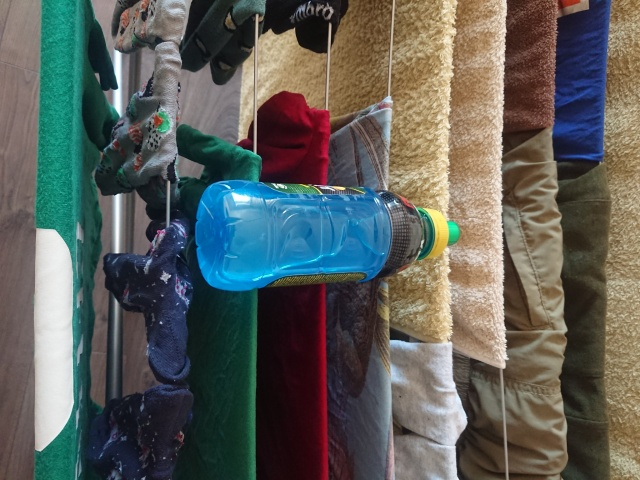Vindi Iso Sport Forest Strawberries 500mL: (191, 175, 461, 293)
